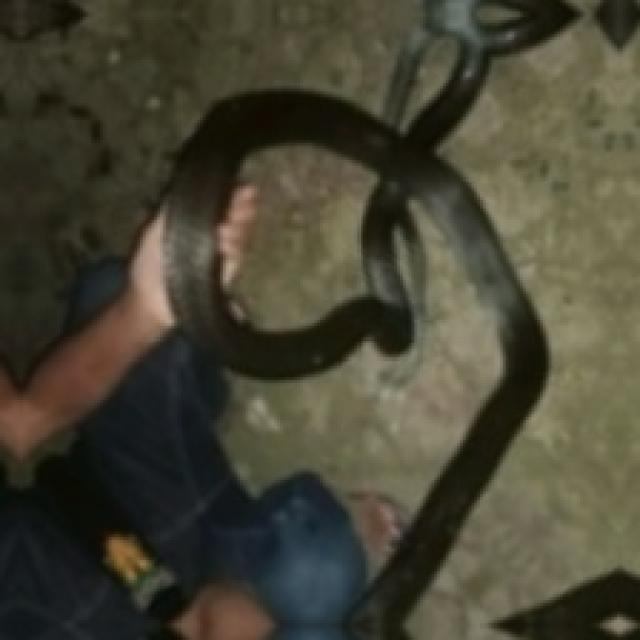king cobra: (166, 0, 637, 637), (163, 0, 574, 637), (223, 143, 377, 331), (426, 0, 571, 140)
